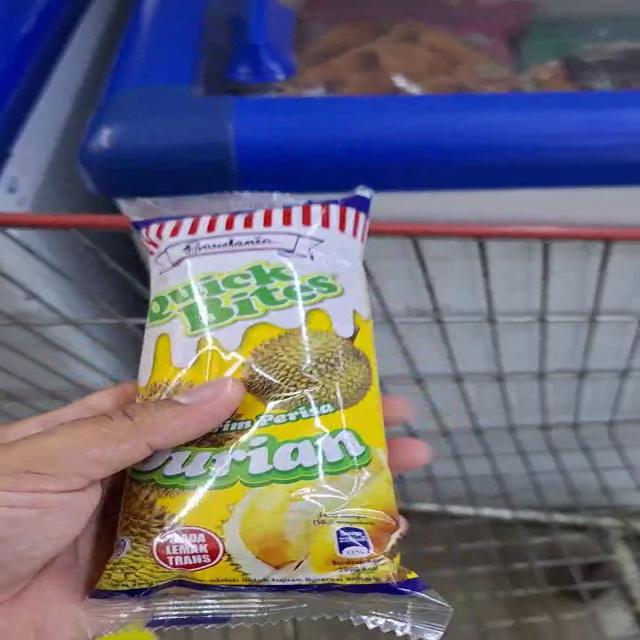Roti: (43, 382, 507, 640), (87, 182, 461, 392)
